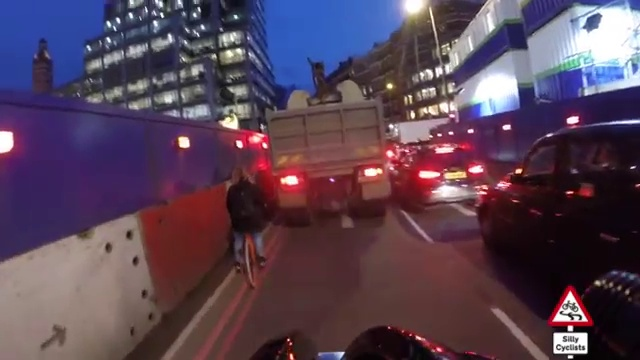cyclist_back: (223, 163, 275, 286)
